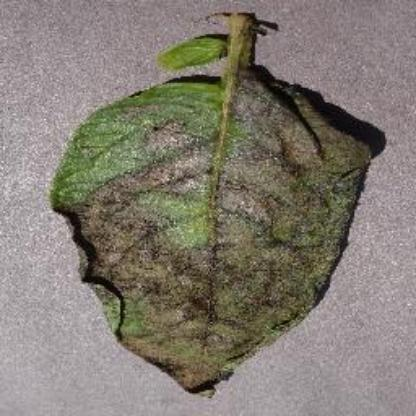Late-Blight: (44, 17, 380, 391)
